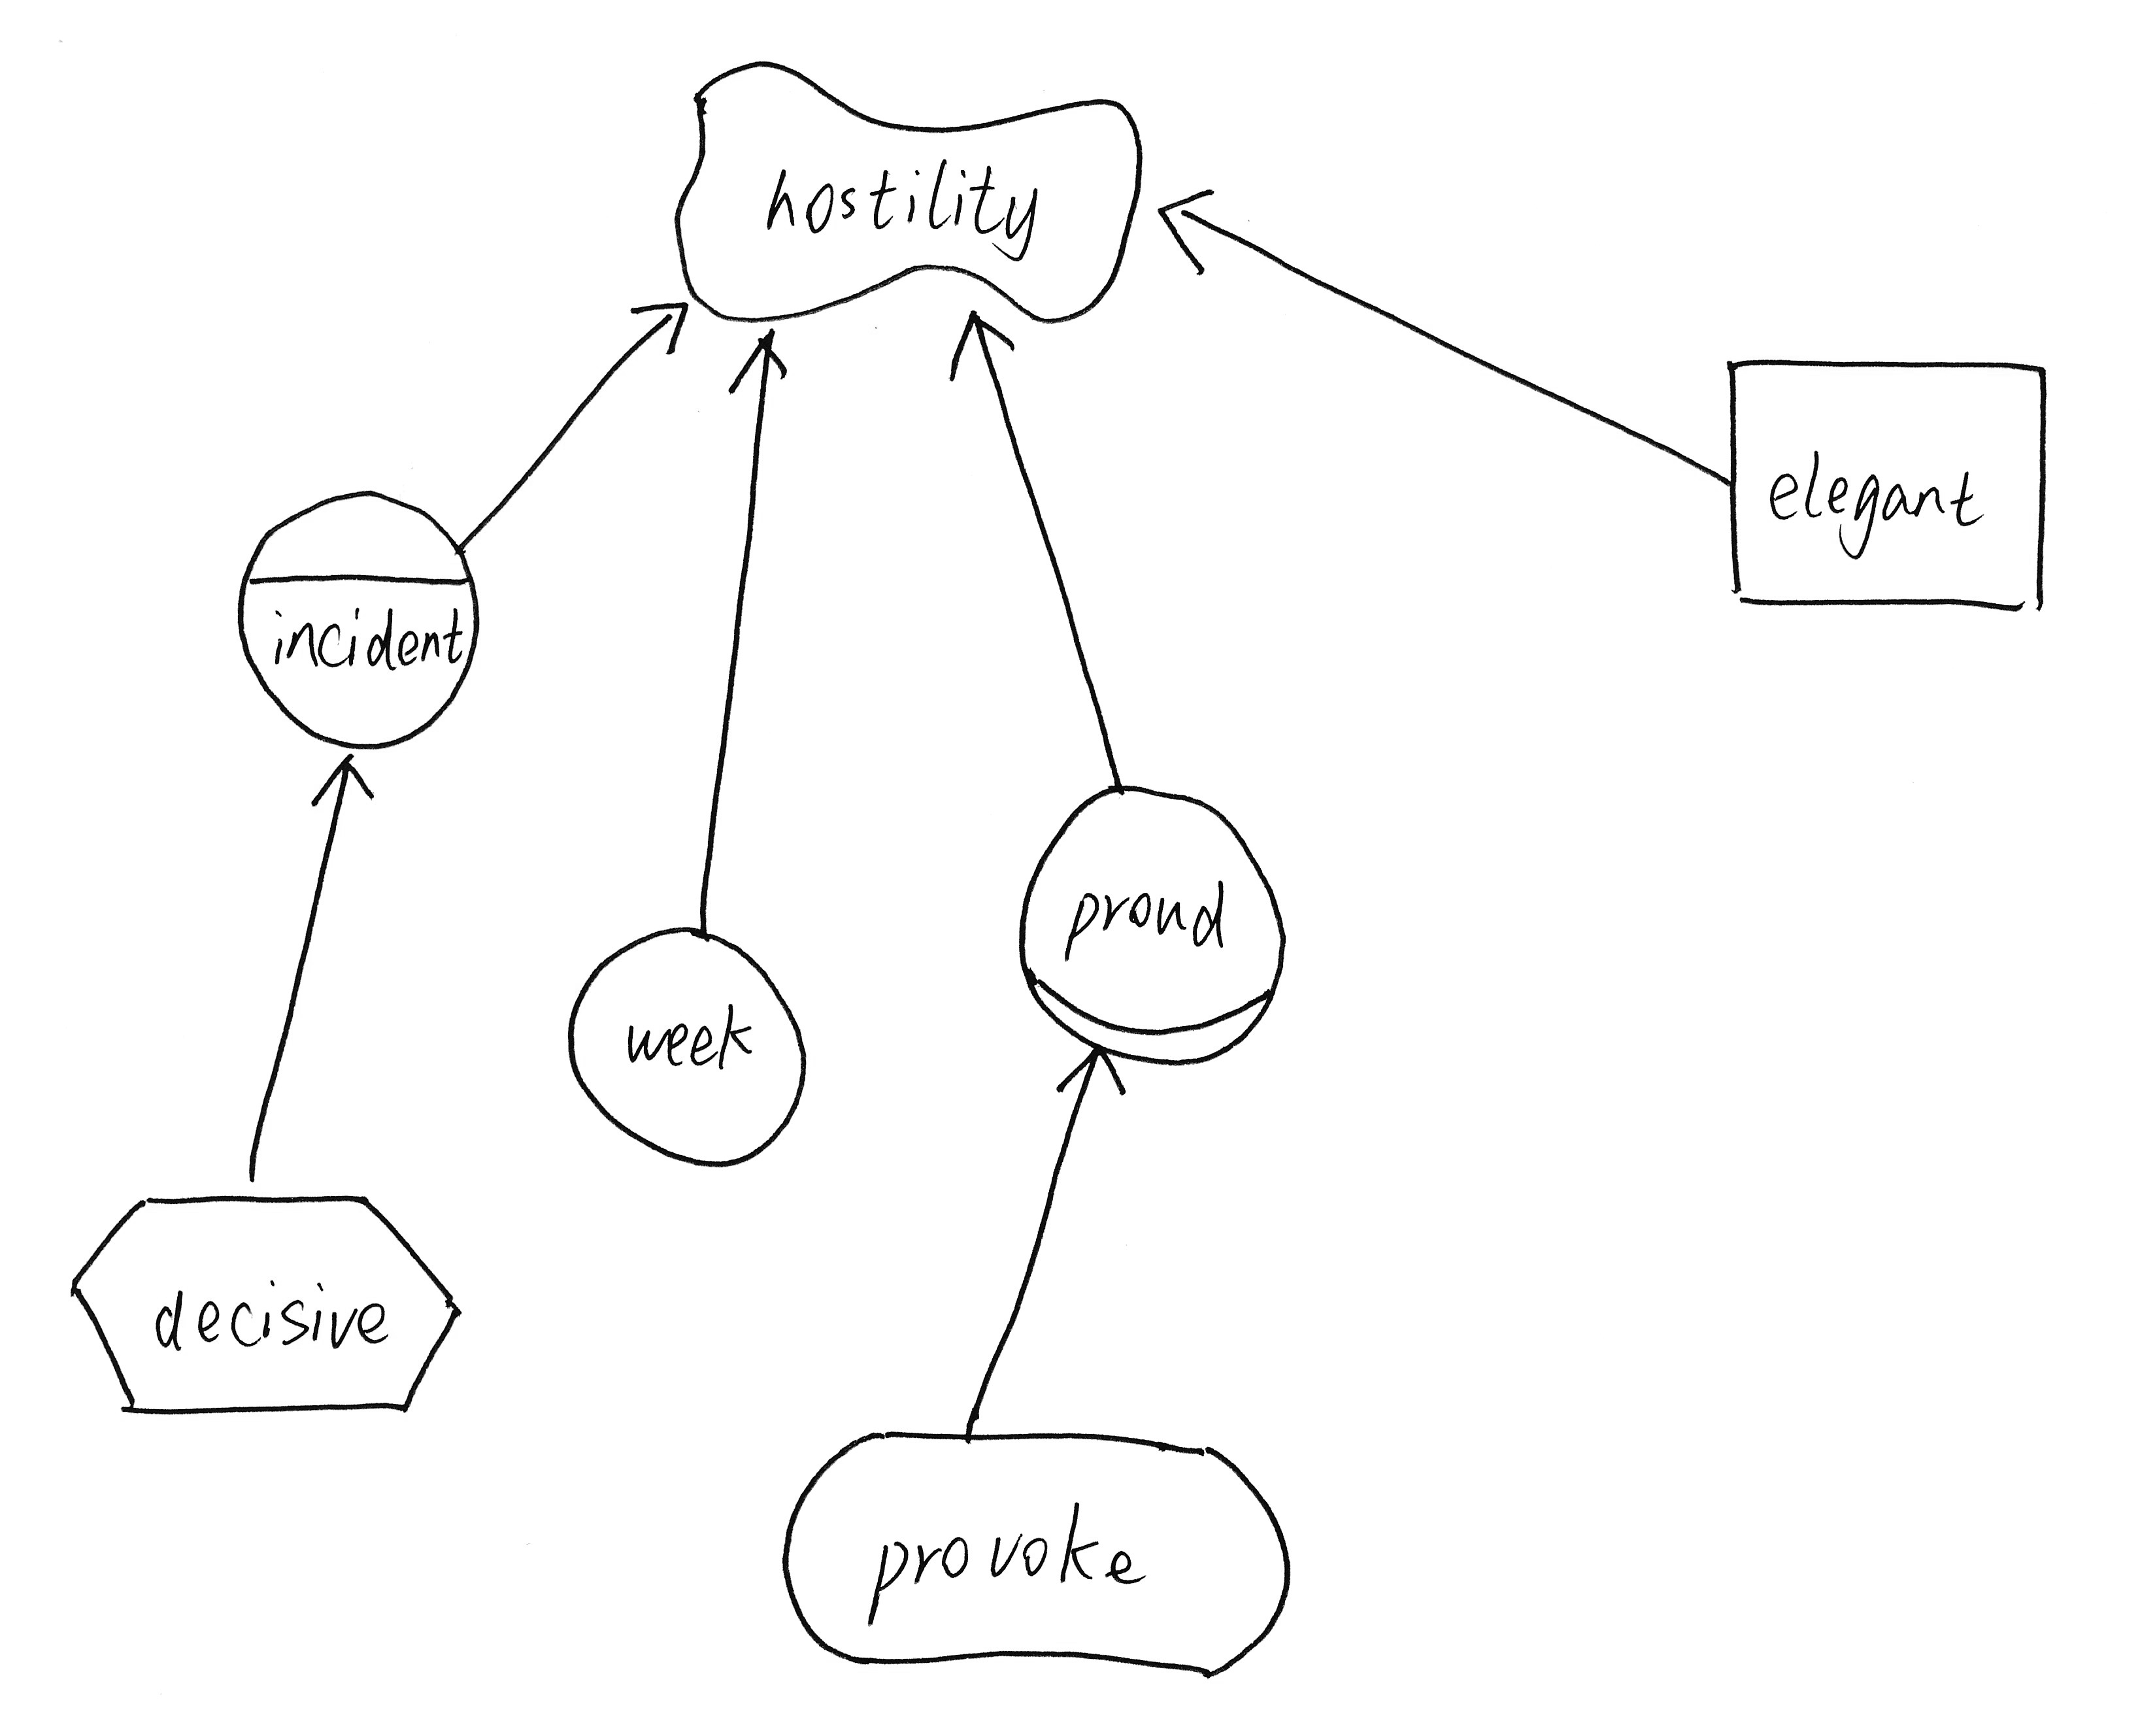actor: (549, 905, 829, 1182)
agent: (214, 471, 496, 765)
arrow: (935, 296, 1027, 388), (1143, 179, 1224, 282), (1052, 1035, 1141, 1118), (726, 312, 795, 413), (299, 746, 377, 820), (627, 292, 696, 367)
goal: (765, 1405, 1320, 1688)
quality: (654, 44, 1173, 347)
resource: (1710, 326, 2073, 631)
role: (1001, 771, 1309, 1086)
task: (57, 1174, 473, 1433)
